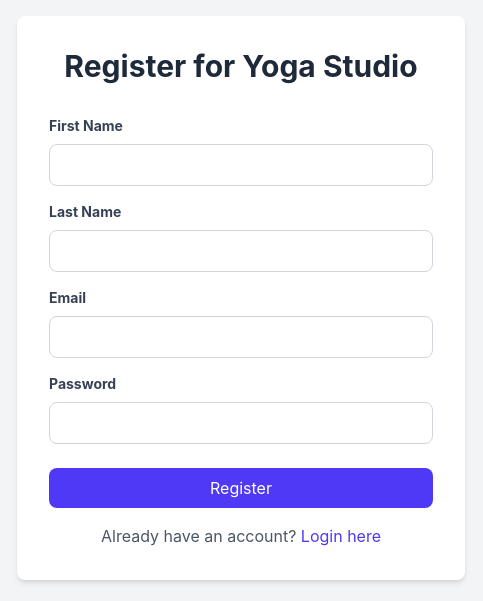
Scenario: Register page › disables the button while the registration request is pending
In the field labelled "First Name": coordinates (241, 165) [49,144,433,186], type "Yoga"
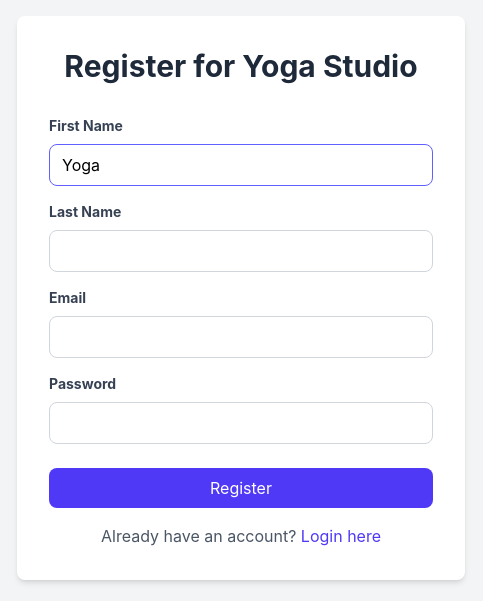
In the field labelled "Last Name": coordinates (241, 251) [49,230,433,272], type "Member"
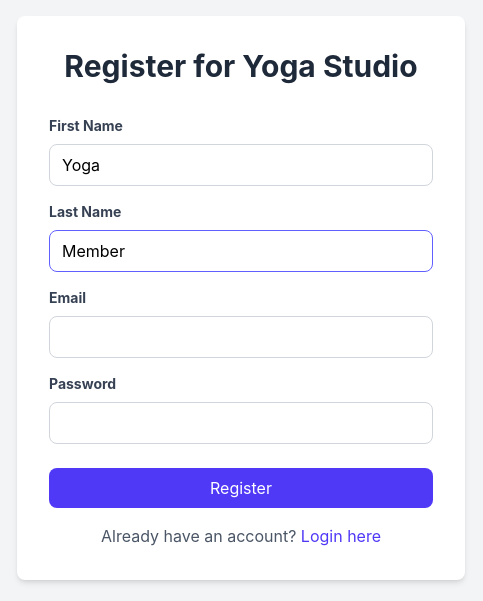
In the field labelled "Email": coordinates (241, 337) [49,316,433,358], type "member@example.com"
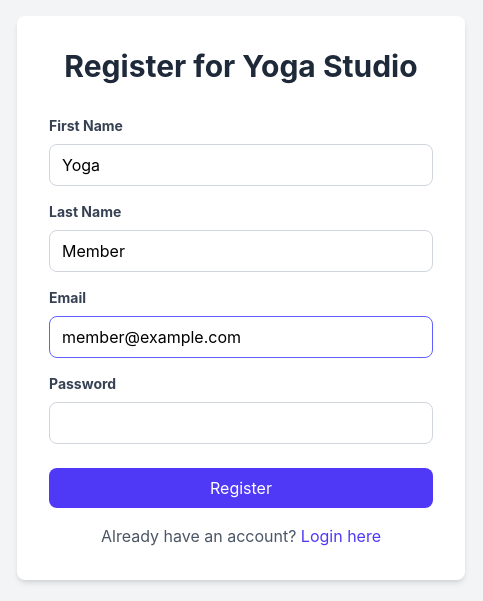
In the password field labelled "Password": coordinates (241, 423) [49,402,433,444], type "Secret123!"
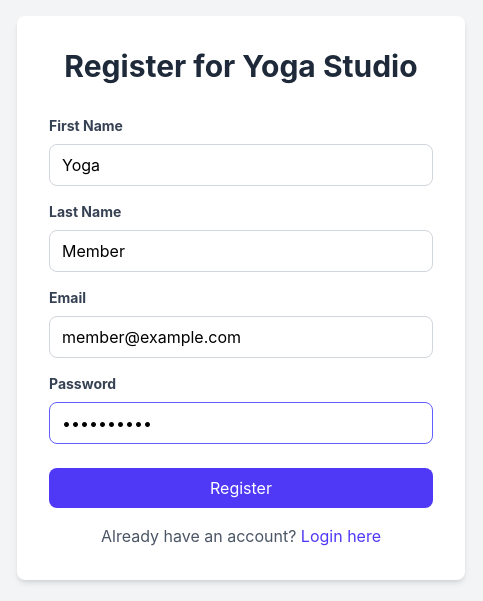
Click the button "Register": coordinates (241, 488) [49,468,433,508]
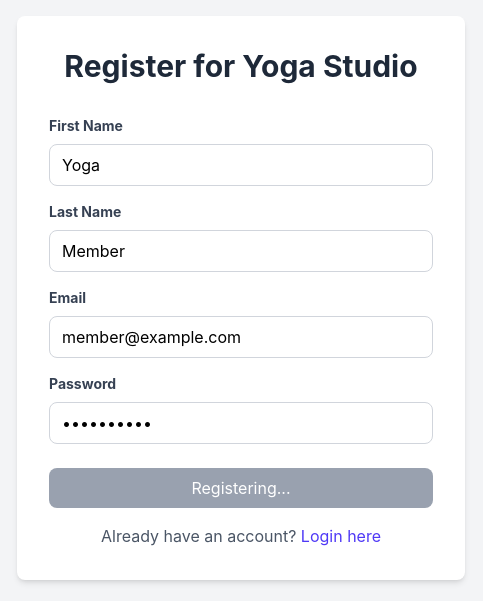
Expected: the button "Registering..." is shown, [49,468,433,508]
Expected: the button "Registering..." is disabled, [49,468,433,508]
